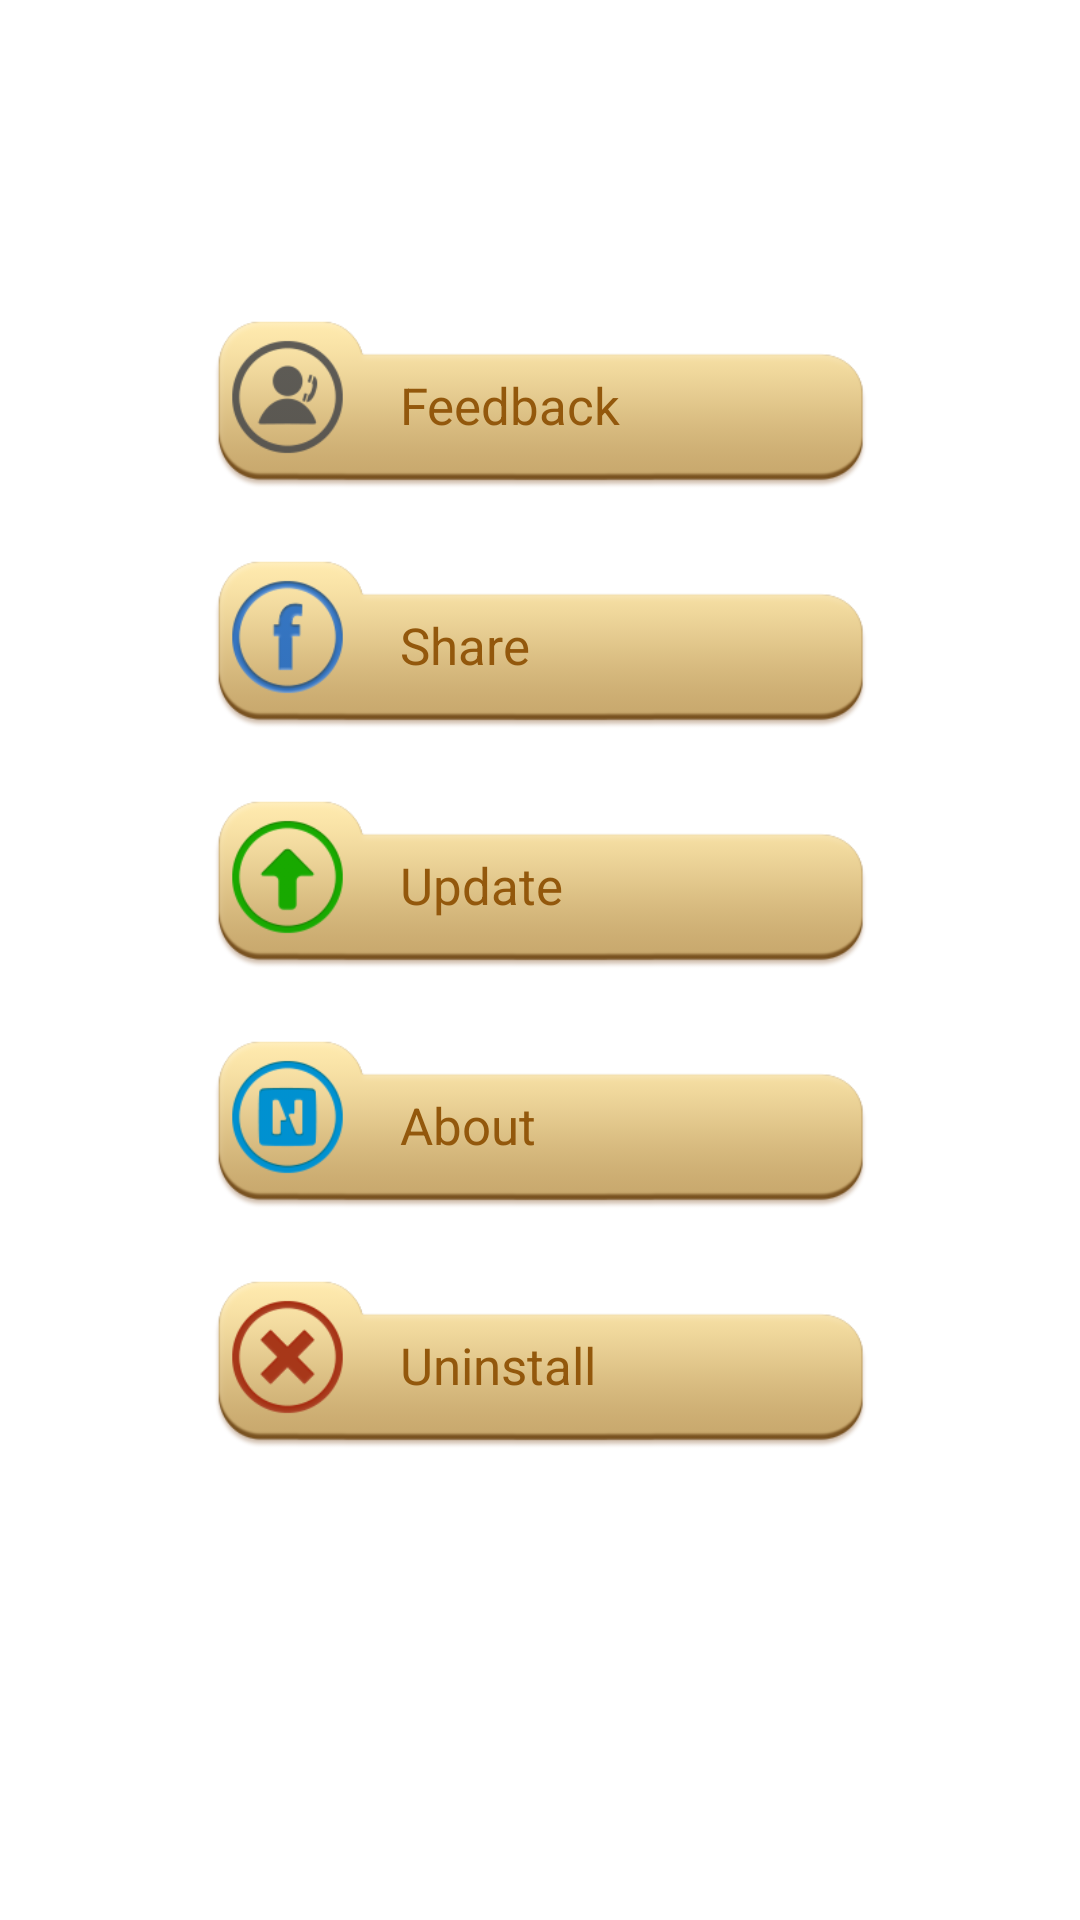

Named icons in this screenshot (1080*1920) and their centers, (x,y):
delete: (309,1363)
